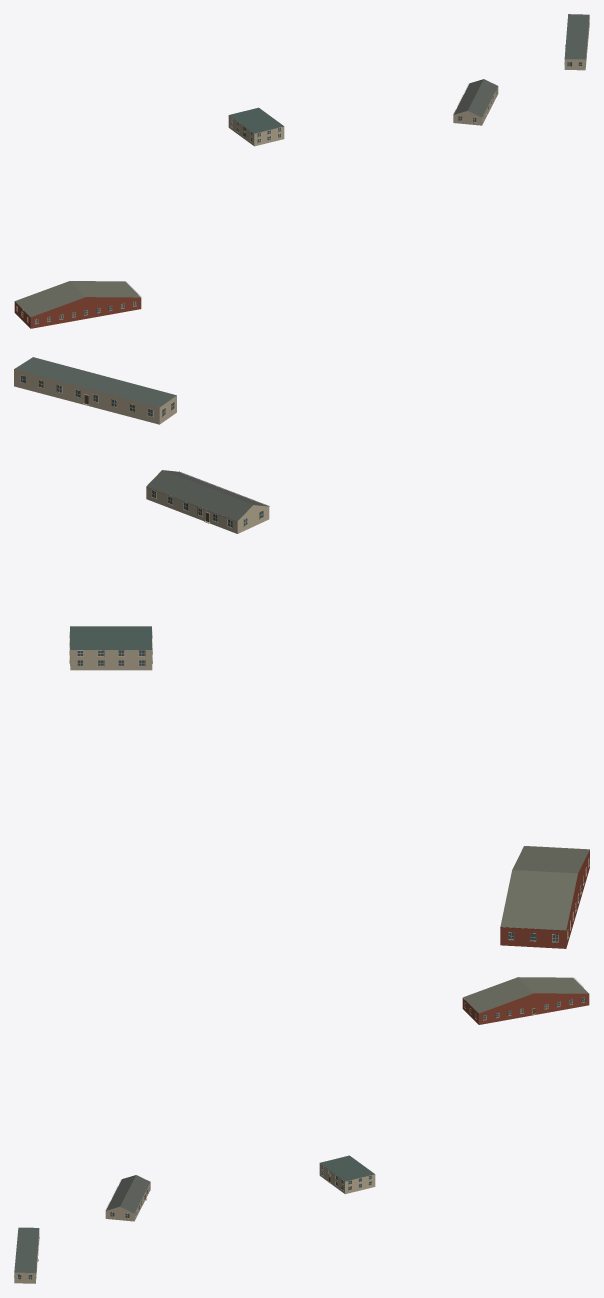
3 renders of one model, top to bottom at view 1: azimuth 90°, elevation 25°; view 2: azimuth 150°, elevation 25°; view 3: azimuth 270°, elevation 25°, orthographic. The views are drawn at different scales.
Parts seen in each view (by area): view 1: -8_1_271022211_0, -8_1_271269906_12; view 2: -8_1_271022211_0, -8_1_271269906_12; view 3: -8_1_271022211_0, -8_1_271269906_12.
Part boxes in pixels (box(x1,y1,x2,y2)): -8_1_271022211_0: box(14, 14, 589, 328); -8_1_271269906_12: box(228, 17, 589, 146); -8_1_271022211_0: box(14, 357, 589, 948); -8_1_271269906_12: box(14, 369, 269, 670); -8_1_271022211_0: box(14, 977, 589, 1279); -8_1_271269906_12: box(14, 1163, 375, 1283).
Size of the model in its own units: 256 by 8.73 by 208.
